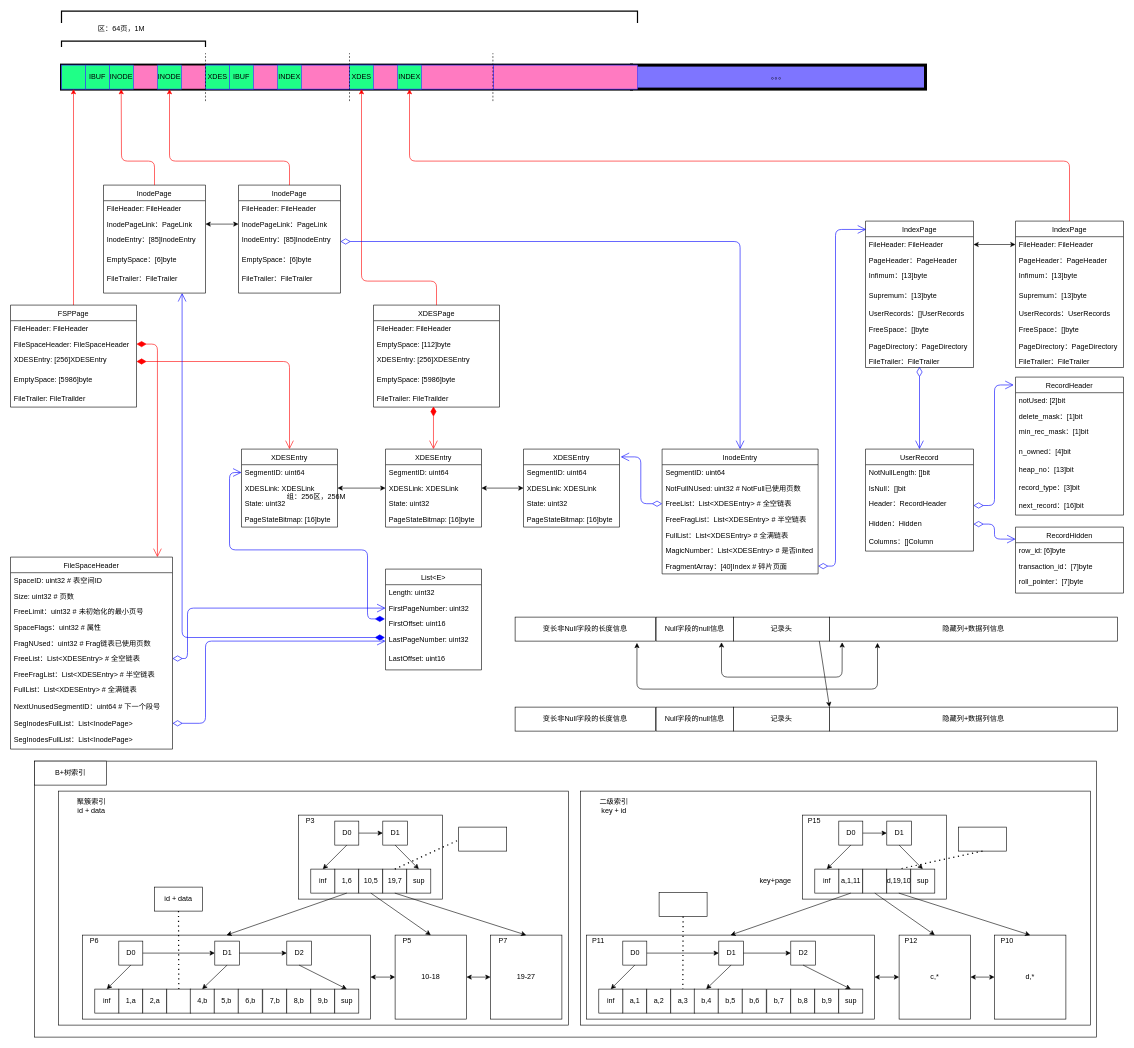
Some shapes in this 1134 by 1048 pixel diagram are drawn without their labels. Each missing label, with the centre of its shape:
"3,a" goes at point 178,1000.
"c,10,12" goes at point 874,880.
"FSP" goes at point 73,76.
"id + page" goes at point 482,838.
"key + id" goes at point 682,904.
"key,id + page" goes at point 982,838.
